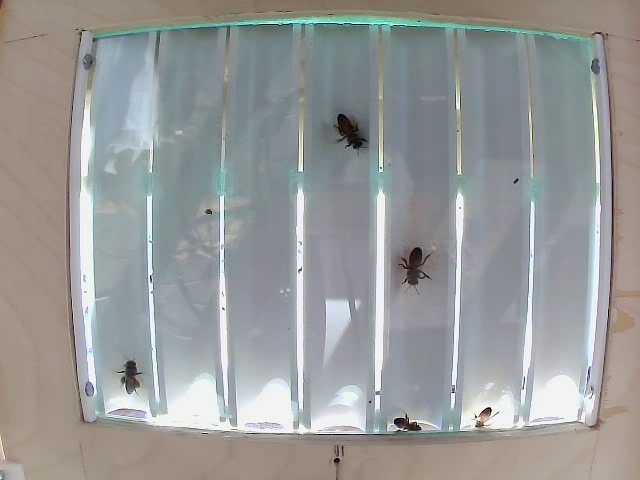bee: (386, 395, 441, 434), (332, 104, 369, 161), (113, 353, 151, 407), (406, 261, 438, 318), (466, 402, 513, 439)
